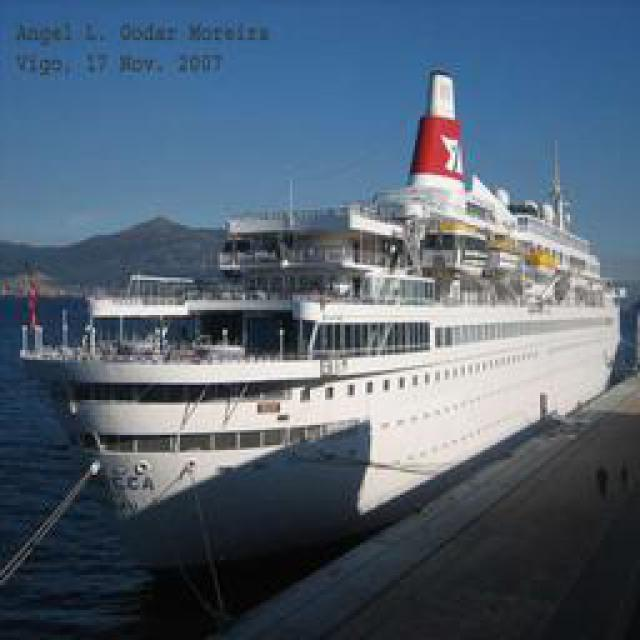Ship: (20, 73, 613, 561)
